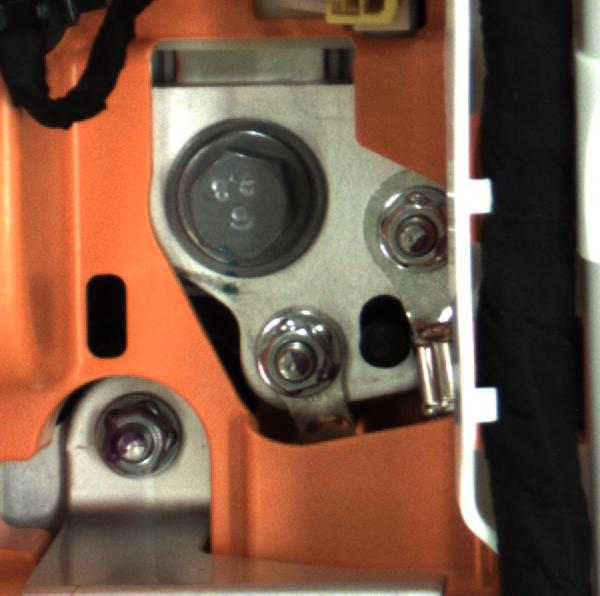nut_b: (137, 117, 328, 278)
screw_s: (80, 385, 187, 484), (263, 309, 357, 404), (369, 185, 450, 283)
